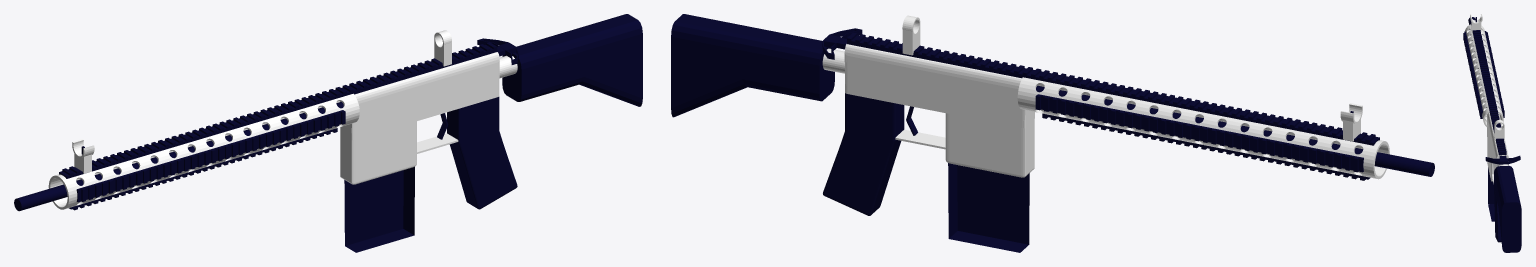
File: stoner0026.obj
3 renders of one model, left to right at view 1: azimuth 30°, elevation 25°; view 2: azimuth 150°, elevation 25°; view 3: azimuth 270°, elevation 25°, orthographic. The views are drawn at different scales.
Visible parts, largest first — view 1: shoulderStock, upperReceiver, rearPistolGrip, handGuard, mag, picatinyRail, picatinyRailLeft, magWell, barrel, picatinyRailBottom, lowerTriggerGuard, handle; view 2: shoulderStock, upperReceiver, handGuard, rearPistolGrip, mag, picatinyRail, picatinyRailRight, magWell, barrel, picatinyRailBottom, lowerTriggerGuard, handle (+1 smaller); view 3: shoulderStock, handGuard, picatinyRail, upperReceiver, picatinyRailLeft, picatinyRailRight, mag, rearPistolGrip, handle, magWell, rearSight, rearSightCutter (+2 smaller).
Part boxes in pixels (bbox=[...]): shoulderStock: bbox=[502, 14, 642, 106]; upperReceiver: bbox=[340, 52, 499, 140]; rearPistolGrip: bbox=[447, 97, 517, 209]; handGuard: bbox=[48, 93, 359, 209]; mag: bbox=[344, 166, 414, 252]; picatinyRail: bbox=[59, 42, 497, 178]; picatinyRailLeft: bbox=[76, 110, 345, 202]; magWell: bbox=[340, 121, 416, 184]; barrel: bbox=[14, 101, 343, 211]; picatinyRailBottom: bbox=[69, 128, 337, 210]; lowerTriggerGuard: bbox=[417, 133, 458, 153]; handle: bbox=[477, 38, 518, 64]; shoulderStock: bbox=[671, 14, 834, 117]; upperReceiver: bbox=[844, 44, 1034, 128]; handGuard: bbox=[1017, 77, 1389, 179]; rearPistolGrip: bbox=[823, 93, 904, 215]; mag: bbox=[948, 163, 1029, 252]; picatinyRail: bbox=[847, 32, 1379, 145]; picatinyRailRight: bbox=[1035, 94, 1363, 172]; magWell: bbox=[945, 113, 1034, 177]; barrel: bbox=[1036, 85, 1434, 176]; picatinyRailBottom: bbox=[1042, 113, 1370, 180]; lowerTriggerGuard: bbox=[895, 129, 945, 149]; handle: bbox=[822, 28, 862, 59]; shoulderStock: bbox=[1494, 166, 1521, 252]; handGuard: bbox=[1464, 24, 1503, 126]; picatinyRail: bbox=[1471, 24, 1506, 155]; upperReceiver: bbox=[1487, 112, 1508, 170]; picatinyRailLeft: bbox=[1463, 31, 1482, 118]; picatinyRailRight: bbox=[1484, 31, 1504, 117]; mag: bbox=[1488, 167, 1494, 221]; rearPistolGrip: bbox=[1494, 170, 1501, 242]; handle: bbox=[1485, 155, 1520, 164]; magWell: bbox=[1487, 139, 1493, 181]; rearSight: bbox=[1494, 125, 1504, 140]; rearSightCutter: bbox=[1494, 119, 1504, 131].
Size of the model in its own units: 8.99 by 2.51 by 1.19.
